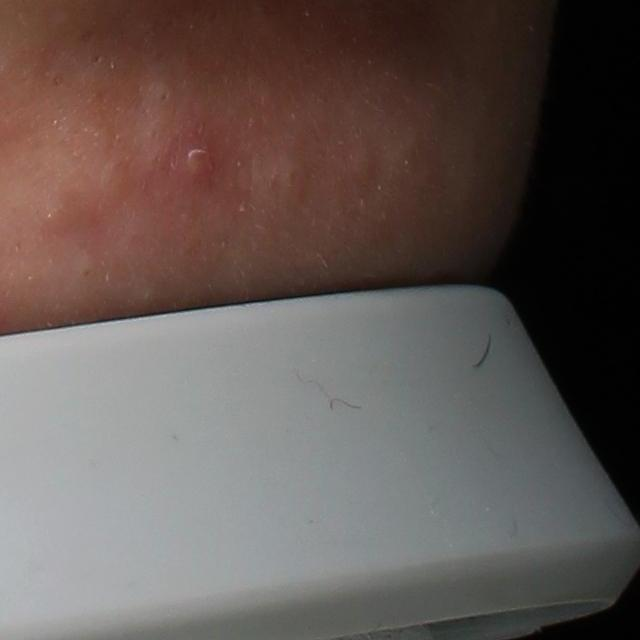comedo: (155, 86, 177, 105)
